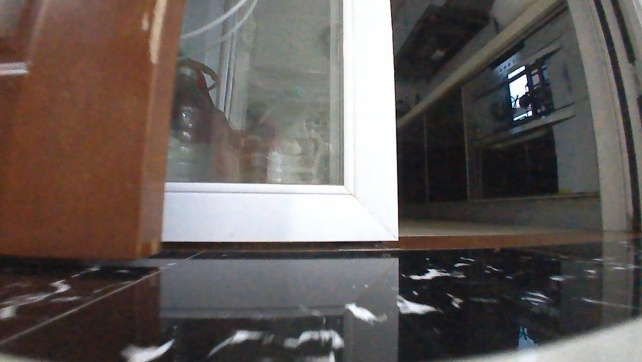cupboard: (396, 0, 602, 233)
